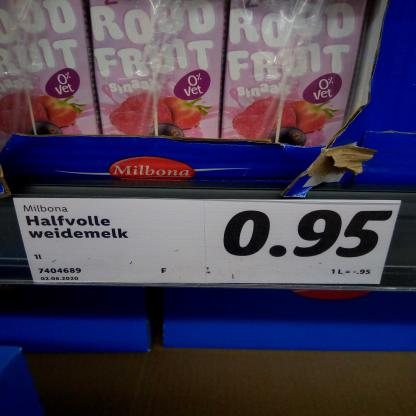prtg: (14, 200, 403, 285)
